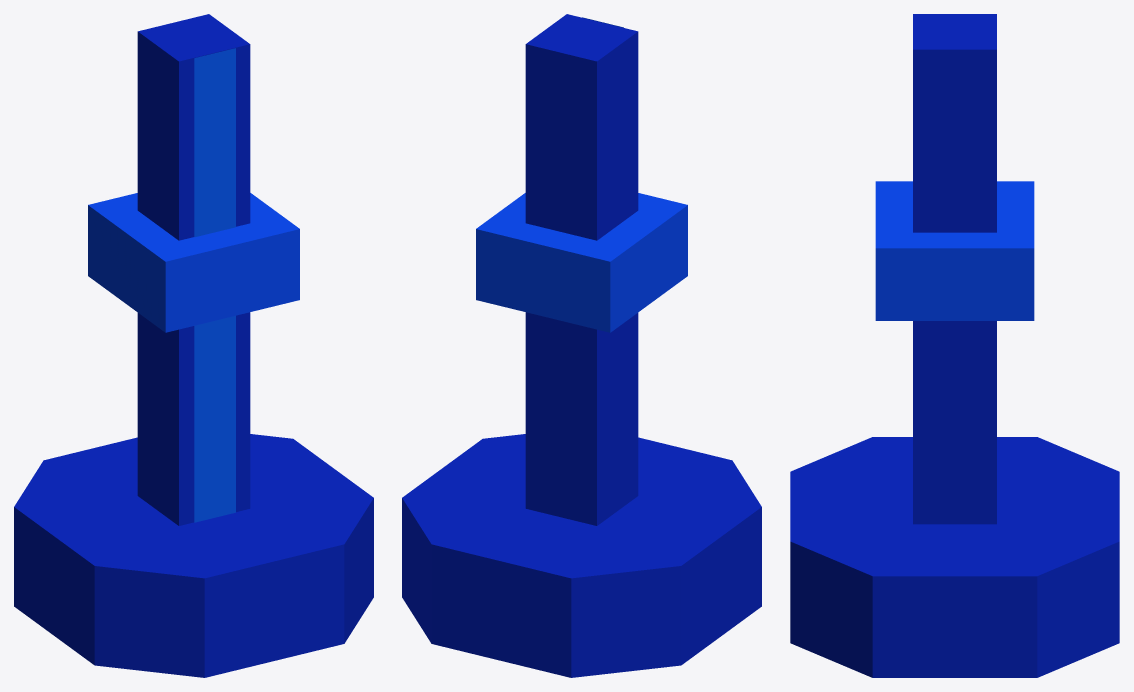
The model's file is Building_038_f.fbx.
The picture shows the model from 3 angles, left to right: view 1: azimuth 30°, elevation 25°; view 2: azimuth 150°, elevation 25°; view 3: azimuth 270°, elevation 25°; orthographic projection. The views are drawn at different scales.
Visible parts, largest first — view 1: Building_038_f; view 2: Building_038_f; view 3: Building_038_f.
Boxes of the visible parts, box(x1,y1,x2,y2) form: Building_038_f: box(14, 14, 373, 677); Building_038_f: box(402, 14, 761, 677); Building_038_f: box(790, 14, 1119, 677).
Bounding box in the file's own units: 3.16 × 6.11 × 3.16.
